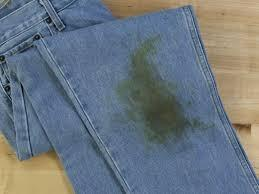earth: (129, 73, 184, 133)
